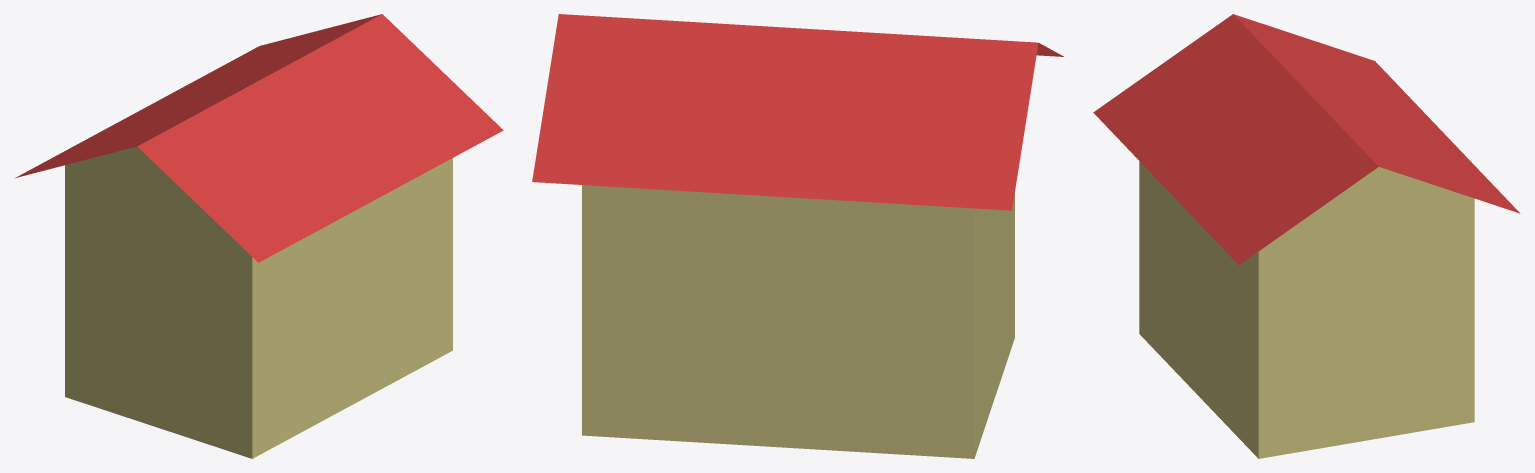
3 views of the same model, side by side, from view 1: azimuth 30°, elevation 25°; view 2: azimuth 150°, elevation 25°; view 3: azimuth 270°, elevation 25° (orthographic). The views are drawn at different scales.
Size of the model in its own units: 13.38 by 12.04 by 8.94.
